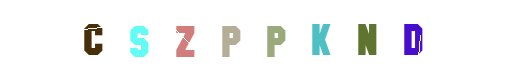C: (52, 0, 132, 80)
D: (372, 0, 452, 80)
K: (283, 0, 363, 80)
N: (312, 0, 392, 80)
P: (212, 0, 292, 80), (225, 0, 305, 80)
S: (109, 0, 189, 80)
Z: (145, 0, 225, 80)
